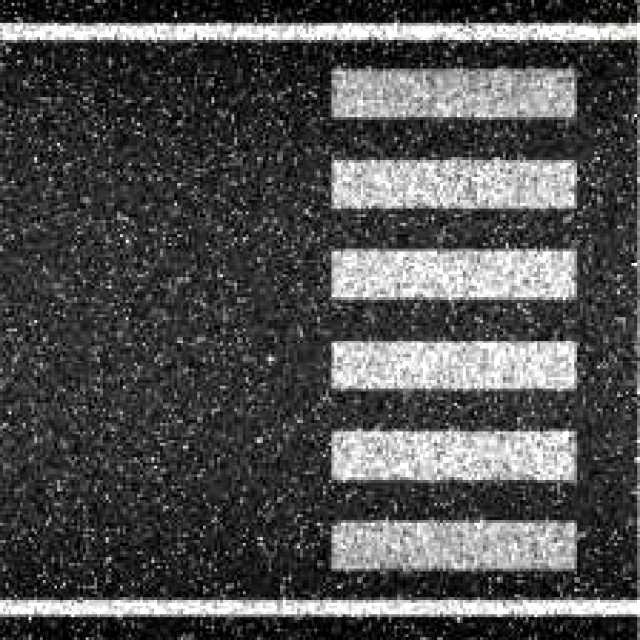crosswalk: (330, 57, 599, 579)
